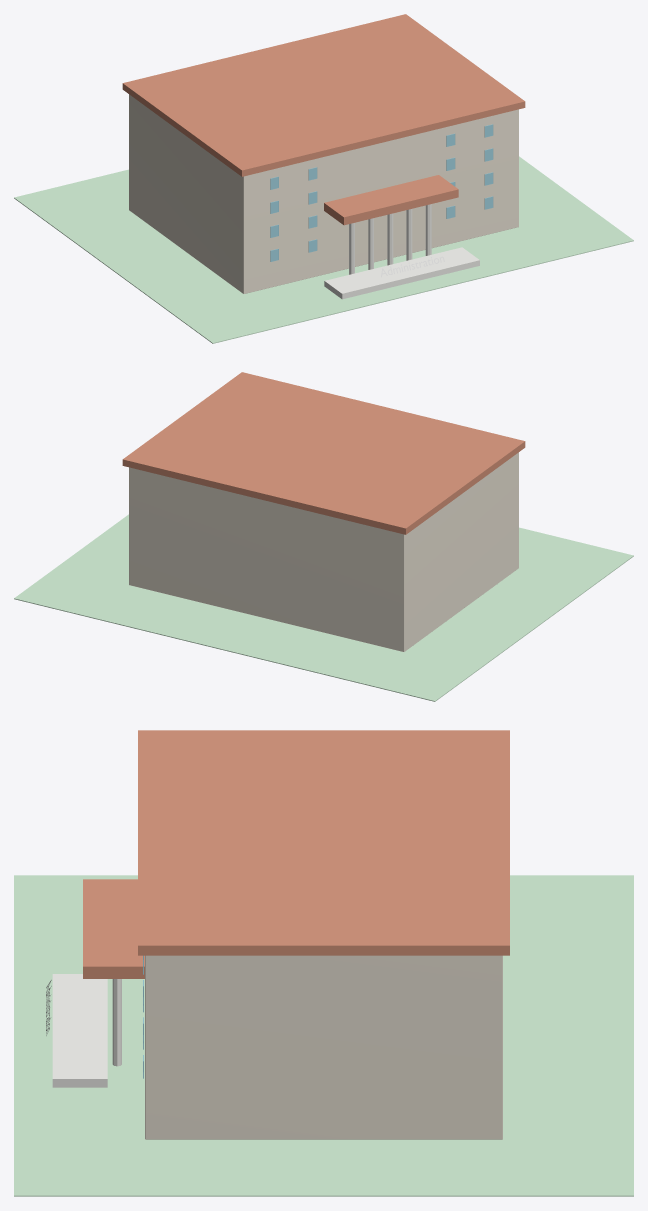
Rendered from administration.glb.
The picture shows the model from 3 angles, top to bottom: view 1: azimuth 30°, elevation 25°; view 2: azimuth 150°, elevation 25°; view 3: azimuth 270°, elevation 25°; orthographic projection. The views are drawn at different scales.
Parts seen in each view (by area): view 1: administration_body, administration_roof, administration.001_base_tile, administration_portico_roof, administration_front_steps; view 2: administration_body, administration_roof, administration.001_base_tile; view 3: administration.001_base_tile, administration_roof, administration_body, administration_front_steps, administration_portico_roof, administration_portico_column_4.
Boxes of the visible parts, bbox=[...] form: administration_body: bbox=[129, 94, 518, 293]; administration_roof: bbox=[122, 14, 525, 176]; administration.001_base_tile: bbox=[14, 156, 633, 343]; administration_portico_roof: bbox=[324, 175, 458, 225]; administration_front_steps: bbox=[324, 247, 479, 299]; administration_body: bbox=[129, 452, 518, 651]; administration_roof: bbox=[122, 372, 525, 534]; administration.001_base_tile: bbox=[14, 514, 633, 701]; administration.001_base_tile: bbox=[14, 875, 633, 1196]; administration_roof: bbox=[138, 730, 509, 955]; administration_body: bbox=[145, 955, 502, 1139]; administration_front_steps: bbox=[52, 974, 107, 1087]; administration_portico_roof: bbox=[83, 879, 144, 978]; administration_portico_column_4: bbox=[112, 979, 121, 1066].
Size of the model in its own units: 55 by 15.91 by 45.
